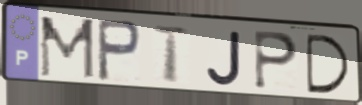D: (303, 31, 354, 96)
J: (205, 29, 244, 88)
M: (38, 15, 97, 82)
P: (96, 17, 144, 85), (252, 28, 300, 92)
T: (150, 24, 193, 86)
